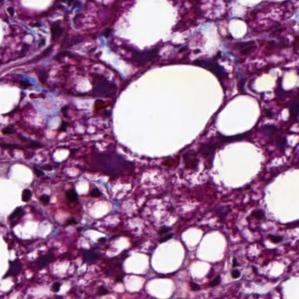inflammation: (19, 239, 101, 280), (126, 194, 179, 237), (241, 209, 287, 250), (224, 256, 248, 284)
